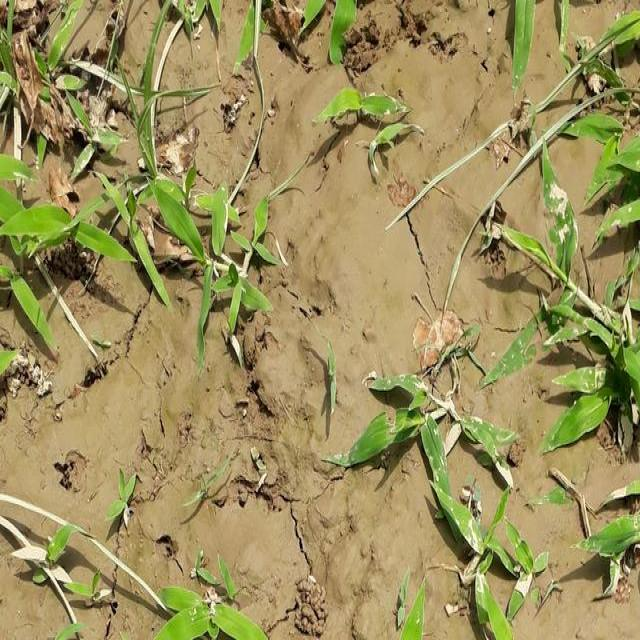weed: (508, 102, 632, 610), (0, 160, 271, 365), (352, 350, 517, 640)
